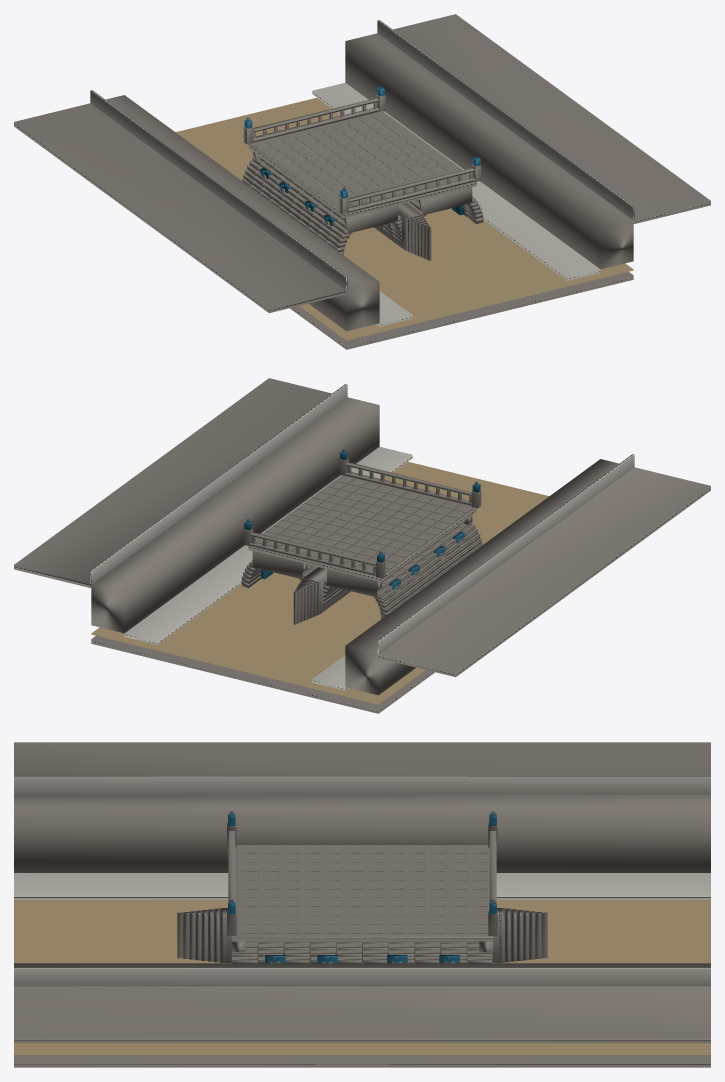
3 renders of one model, top to bottom at view 1: azimuth 30°, elevation 25°; view 2: azimuth 150°, elevation 25°; view 3: azimuth 270°, elevation 25°, orthographic. The views are drawn at different scales.
Parts seen in each view (by area): view 1: gwangtonggyo_street_connections, gwangtonggyo_riverbed_and_water, gwangtonggyo_deck_and_balustrades, gwangtonggyo_segmental_arches, gwangtonggyo_piers_and_cutwaters; view 2: gwangtonggyo_street_connections, gwangtonggyo_riverbed_and_water, gwangtonggyo_deck_and_balustrades, gwangtonggyo_segmental_arches, gwangtonggyo_piers_and_cutwaters; view 3: gwangtonggyo_street_connections, gwangtonggyo_riverbed_and_water, gwangtonggyo_deck_and_balustrades, gwangtonggyo_piers_and_cutwaters, gwangtonggyo_segmental_arches, gwangtonggyo_shinjinseok_reliefs.
Part boxes in pixels (x1,y1,x2,y2): gwangtonggyo_street_connections: [14, 14, 710, 331]; gwangtonggyo_riverbed_and_water: [175, 82, 633, 349]; gwangtonggyo_deck_and_balustrades: [243, 94, 481, 218]; gwangtonggyo_segmental_arches: [241, 152, 483, 254]; gwangtonggyo_piers_and_cutwaters: [374, 203, 431, 260]; gwangtonggyo_street_connections: [14, 378, 710, 695]; gwangtonggyo_riverbed_and_water: [91, 446, 549, 713]; gwangtonggyo_deck_and_balustrades: [243, 458, 481, 582]; gwangtonggyo_segmental_arches: [241, 516, 483, 618]; gwangtonggyo_piers_and_cutwaters: [293, 567, 350, 624]; gwangtonggyo_street_connections: [14, 742, 710, 1043]; gwangtonggyo_riverbed_and_water: [14, 873, 710, 1067]; gwangtonggyo_deck_and_balustrades: [227, 823, 497, 941]; gwangtonggyo_piers_and_cutwaters: [177, 908, 547, 962]; gwangtonggyo_segmental_arches: [231, 941, 493, 963]; gwangtonggyo_shinjinseok_reliefs: [265, 954, 459, 963].
Bounding box in the file's own units: 40 × 7.3 × 40.
Materials: 4 (4 with a texture image).
